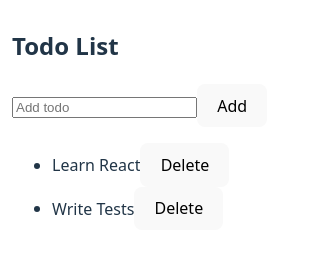
Test case: TodoList Component Tests › adds a new todo
This screenshot has width=332, height=257.
In the field with test id "add-todo-input": [104, 107] box [12, 97, 197, 118], type "New Todo"
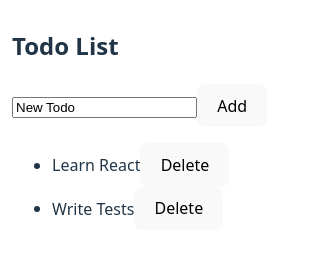
Click the button with test id "add-todo-button": [232, 106] box [197, 84, 267, 127]
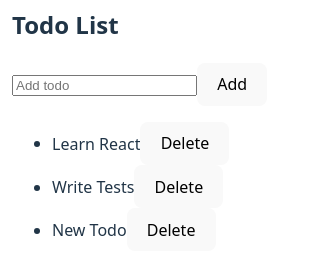
Result: the list item "New Todo" is shown at [52, 219, 127, 241]
